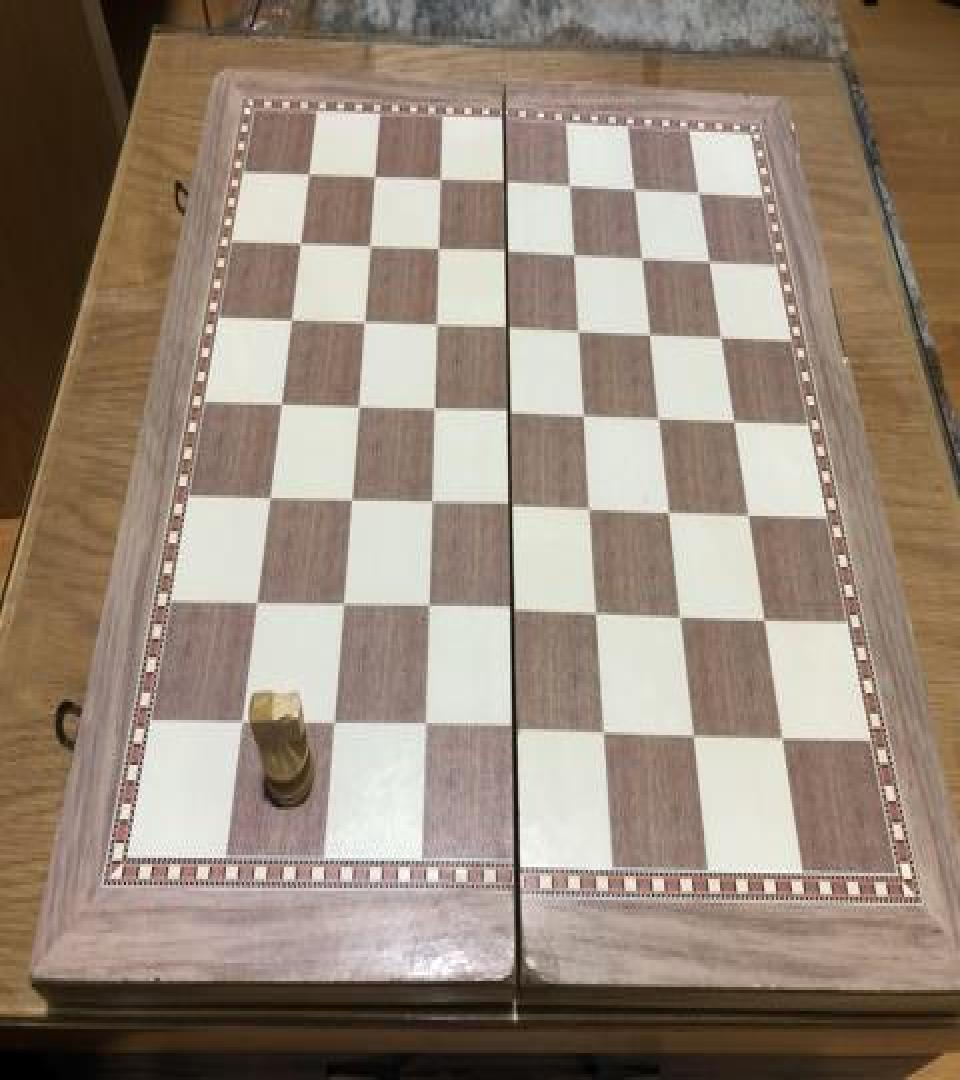xcorner: (243, 586, 267, 623), (593, 718, 617, 755), (411, 712, 435, 749), (689, 176, 713, 212), (558, 170, 582, 206), (493, 166, 517, 202), (427, 162, 451, 198), (361, 159, 385, 195), (295, 156, 319, 192), (699, 246, 723, 282), (631, 242, 655, 278), (563, 238, 587, 274), (494, 236, 518, 272), (425, 232, 449, 268), (356, 228, 380, 264), (287, 225, 311, 261), (711, 322, 735, 358), (639, 318, 663, 354), (568, 315, 592, 351), (495, 312, 519, 348), (423, 309, 447, 345), (350, 304, 374, 340), (277, 302, 301, 338), (724, 406, 748, 442), (649, 404, 673, 440), (573, 400, 597, 436), (497, 396, 521, 432), (421, 393, 445, 429), (344, 390, 368, 426), (267, 386, 291, 422), (739, 501, 763, 537), (659, 498, 683, 534), (579, 494, 603, 530), (499, 490, 523, 526), (418, 488, 442, 524), (337, 484, 361, 520), (256, 480, 280, 516), (755, 606, 779, 642), (670, 603, 694, 639), (585, 600, 609, 636), (500, 597, 524, 633), (415, 592, 439, 628), (329, 590, 353, 626), (773, 726, 797, 762), (683, 722, 707, 758), (502, 716, 526, 752), (320, 708, 344, 744), (228, 705, 252, 741), (624, 173, 648, 208)
